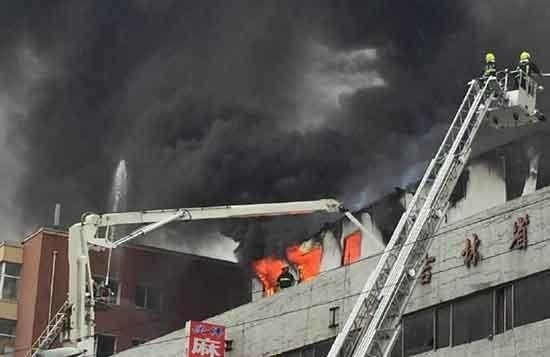fire: (251, 243, 324, 292), (342, 231, 361, 261)
